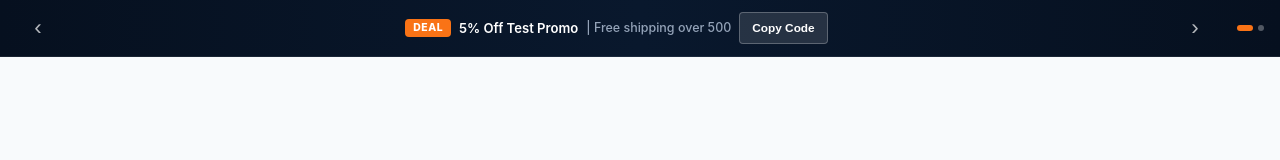
Scenario: AnnouncementBar Component › clicking next arrow cycles to the next promotion
Click the button named "Next promotional message" at (1195, 28), box [1173,6,1217,50]
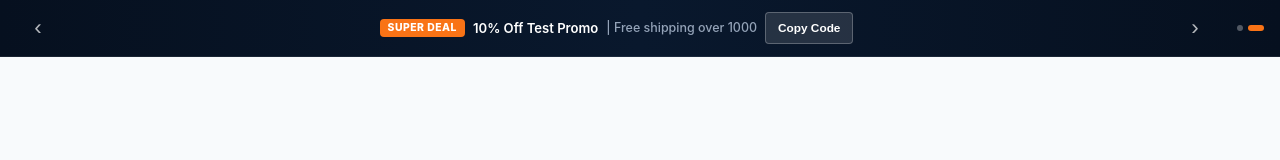
Expected: the text "SUPER DEAL" is shown, [380,19,465,37]
Expected: the text "10% Off Test Promo" is shown, [473,19,598,37]
Expected: the button with aria-label "Copy discount code TEST10" is shown, [765,12,853,44]
